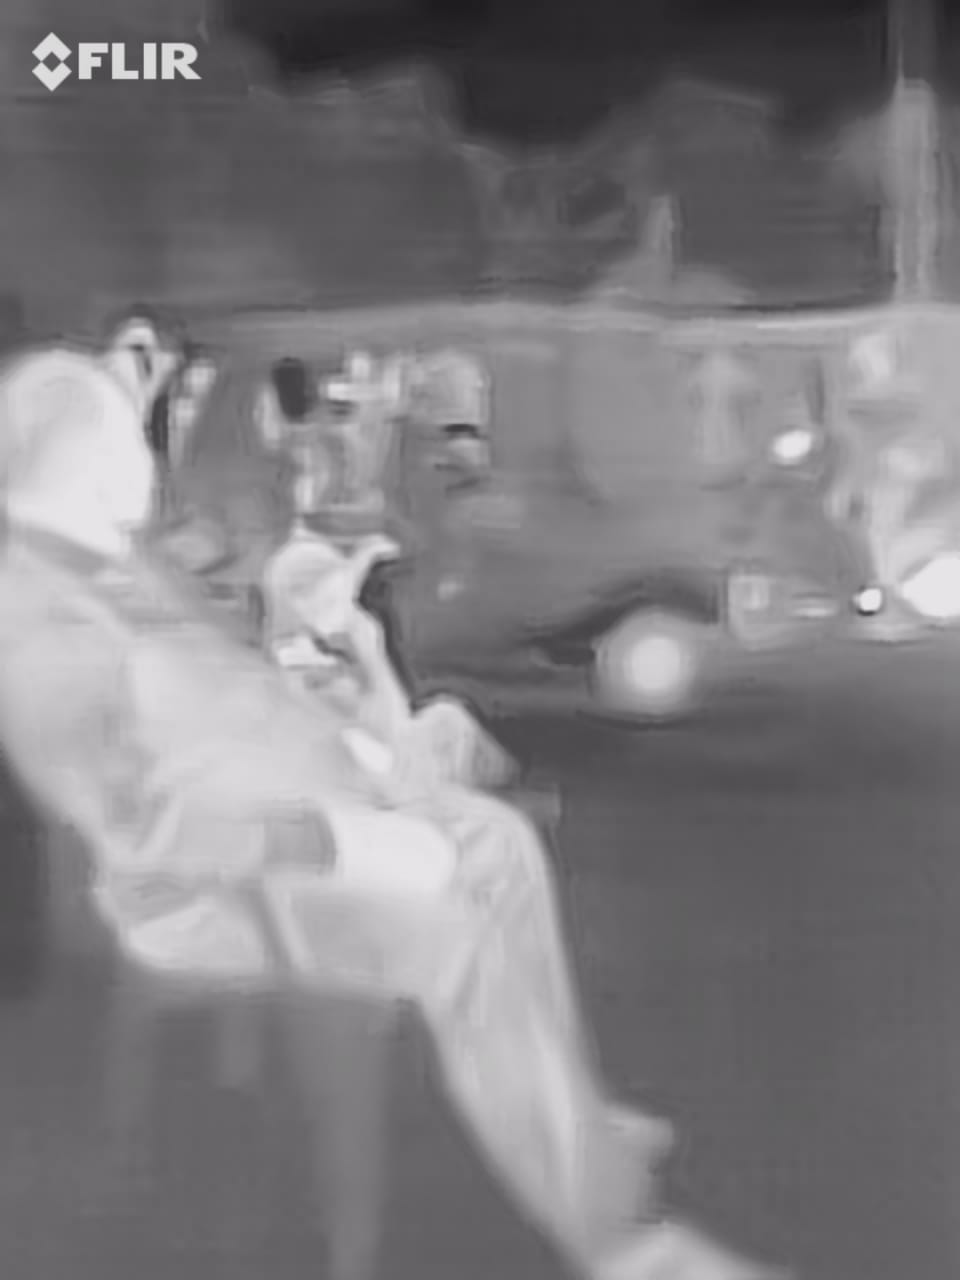head: (1, 344, 168, 576)
